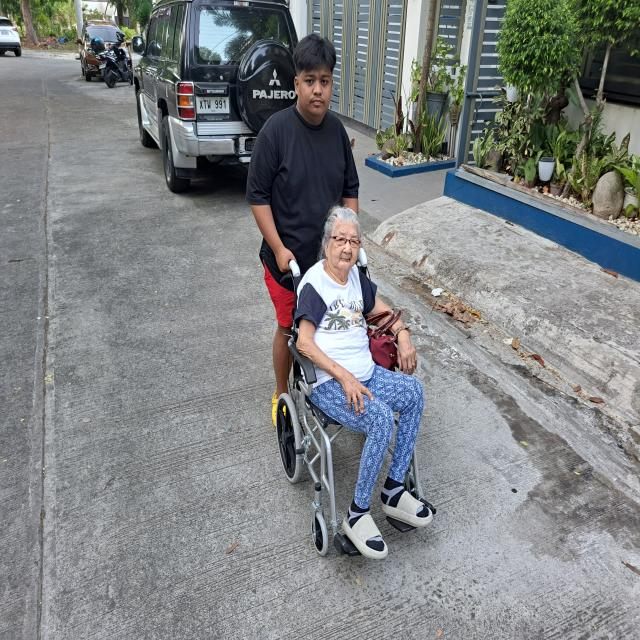wheelchairs: (269, 246, 442, 571)
